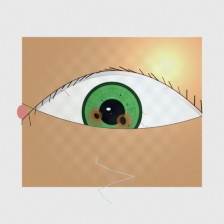foreign_body_visible: (103, 105, 143, 137)
